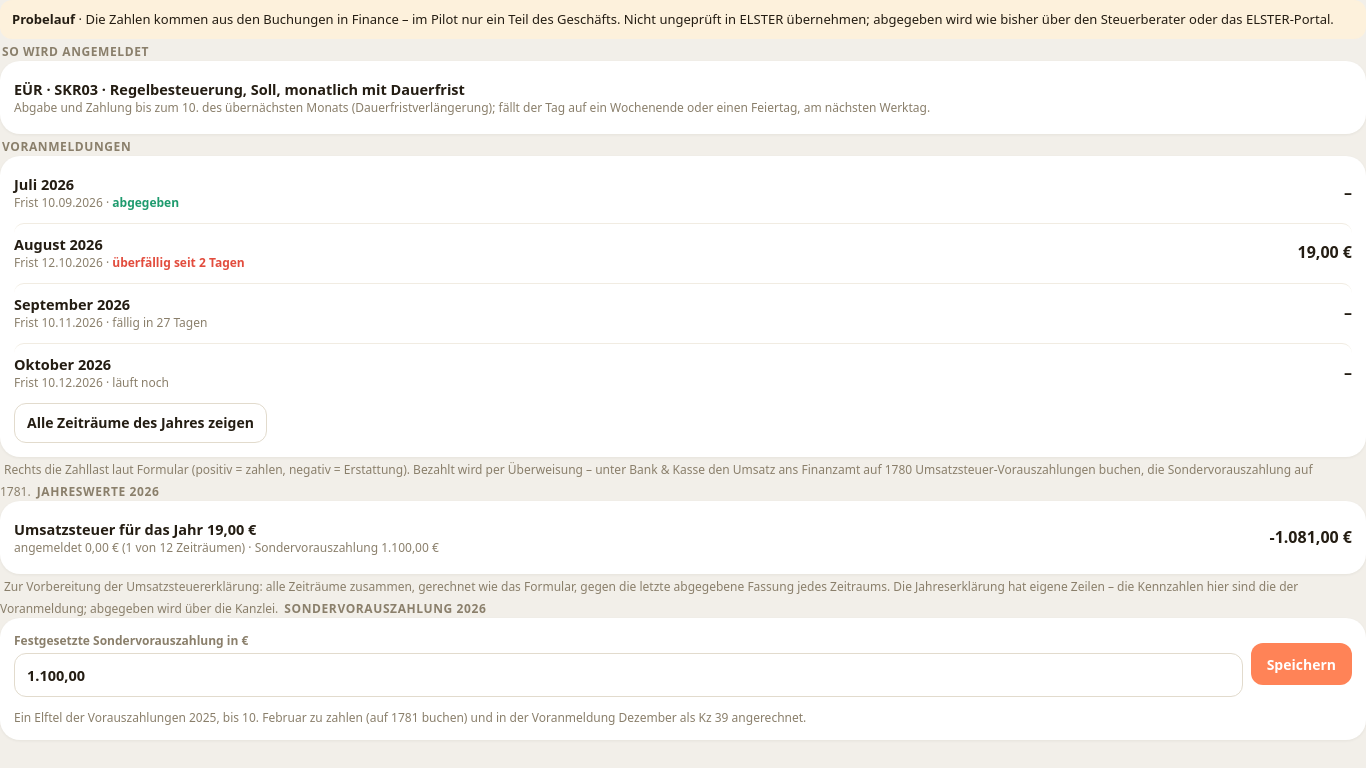
Scenario: FinanceSteuern › zeigt die Zeiträume bis heute mit Frist und Zustand
Expected: the button "August 2026" shows "Frist 12.10.2026 · überfällig seit 2 Tagen", left=14, top=223, right=1352, bottom=275
Expected: the button "August 2026" reads "August 2026 Frist 12.10.2026 · überfällig seit 2 Tagen 19,00 €", left=14, top=223, right=1352, bottom=275
Click the button "Alle Zeiträume des Jahres zeigen": coordinates (140, 423) left=14, top=403, right=267, bottom=443
(page scrolled)
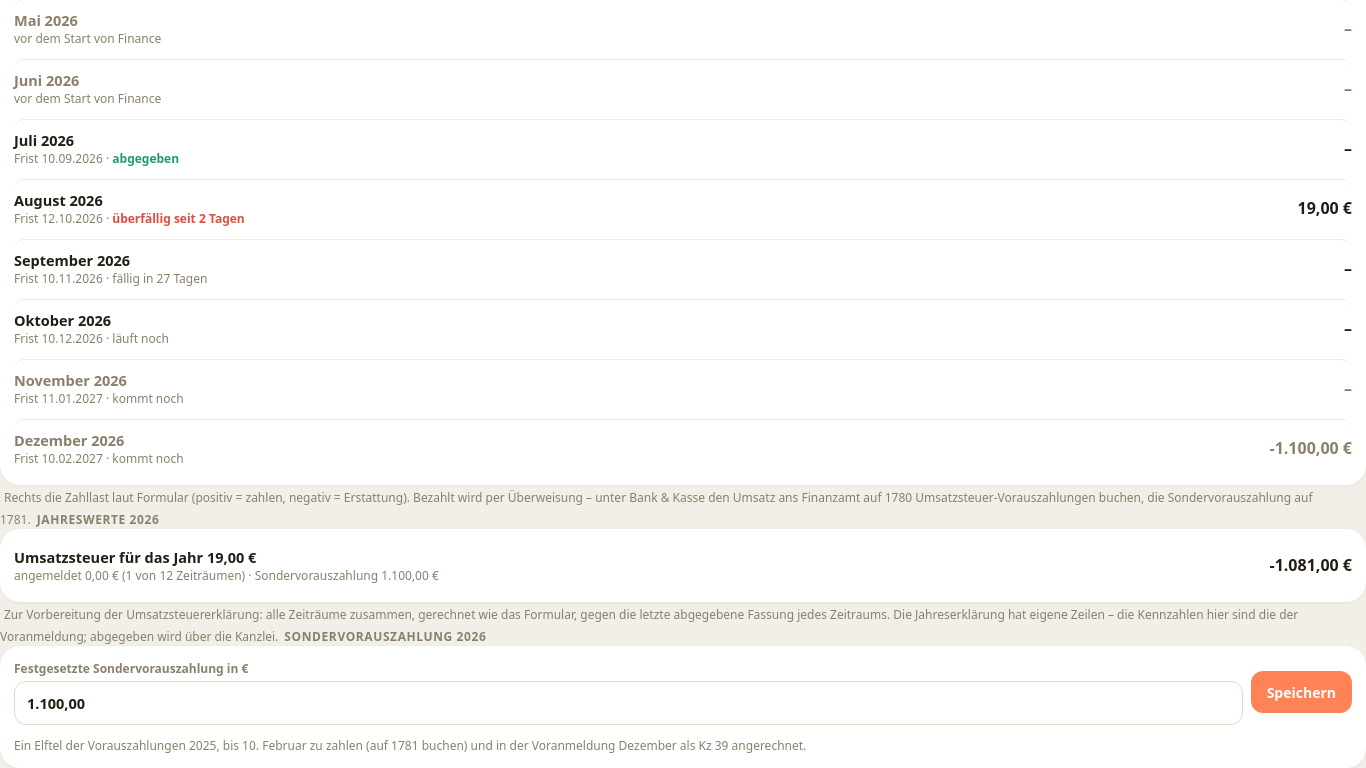
Expected: the field labelled "Festgesetzte Sondervorauszahlung" is shown, left=14, top=681, right=1243, bottom=725
Now the button "Juni 2026 vor dem Start von Finance –" is shown, box left=14, top=59, right=1352, bottom=111
